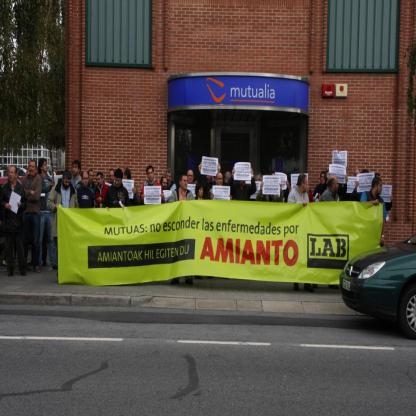Car: (343, 239, 416, 334)
